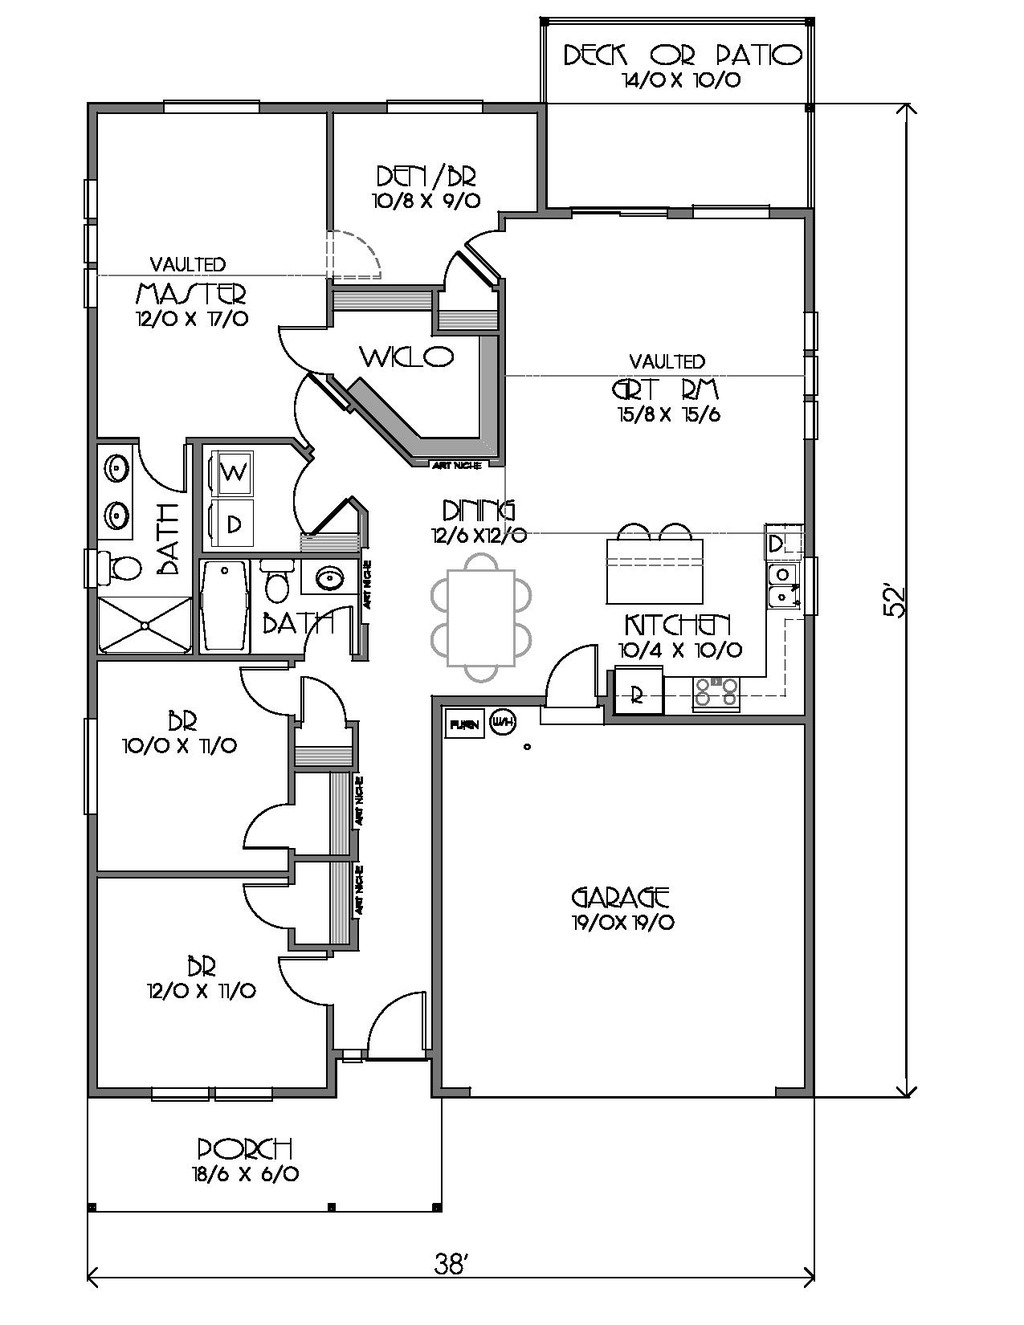dining_table: (421, 548, 535, 683)
door: (365, 991, 443, 1062), (532, 642, 601, 717), (290, 368, 352, 448), (239, 790, 309, 859), (226, 658, 300, 720), (278, 942, 343, 1010), (295, 462, 354, 537), (268, 313, 343, 370), (234, 879, 305, 936), (316, 224, 383, 283), (431, 250, 497, 299), (301, 673, 353, 732), (458, 217, 509, 276)
kitchen_bar: (594, 509, 726, 605)
large_sink: (76, 542, 153, 588), (260, 548, 295, 621)
small_sink: (102, 444, 137, 540), (295, 558, 365, 602)
tub: (198, 554, 248, 653)
twin_sink: (756, 557, 802, 605)
window: (150, 1075, 275, 1113), (80, 180, 112, 314), (795, 305, 819, 450), (160, 92, 271, 122), (686, 193, 784, 224), (79, 713, 106, 816), (378, 96, 487, 114)
